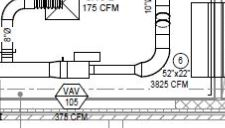VAV: (47, 44, 105, 81)
